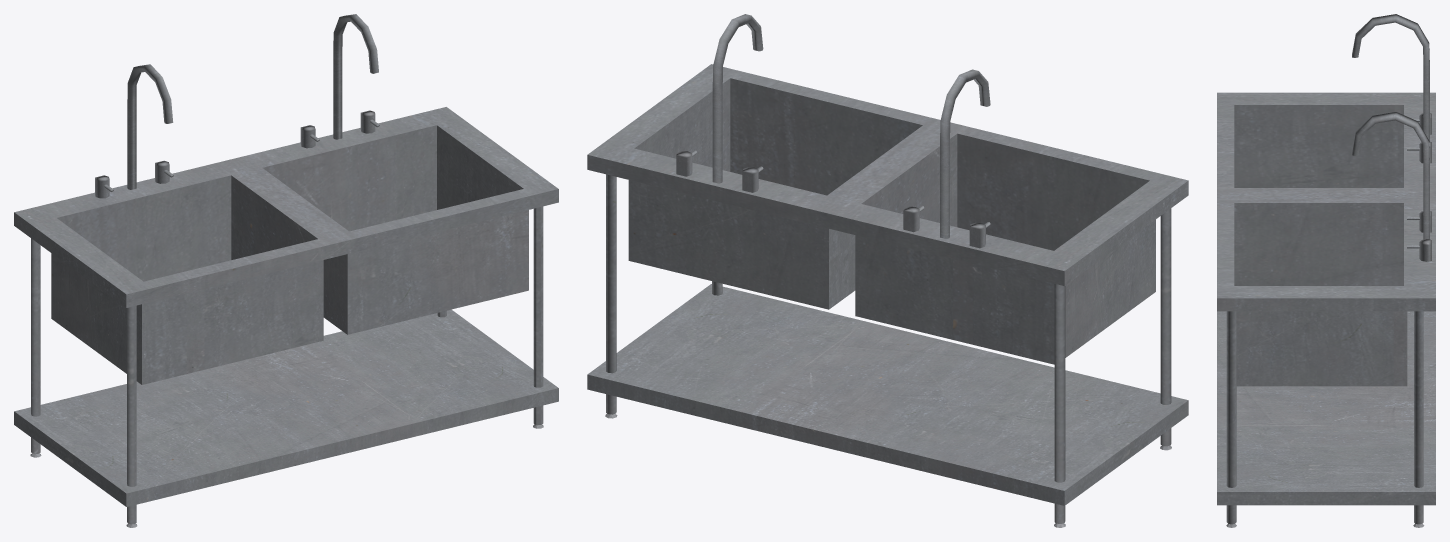
File: BJW_KitchenSink_01.fbx
3 views of the same model, side by side, from view 1: azimuth 30°, elevation 25°; view 2: azimuth 150°, elevation 25°; view 3: azimuth 270°, elevation 25° (orthographic). The views are drawn at different scales.
Visible parts, largest first — view 1: polySurface114; view 2: polySurface114; view 3: polySurface114.
Part boxes in pixels (x1=…): polySurface114: x1=14, y1=14, x2=558, y2=527; polySurface114: x1=587, y1=14, x2=1188, y2=527; polySurface114: x1=1217, y1=14, x2=1435, y2=527.
Size of the model in its own units: 200 by 166 by 90.
